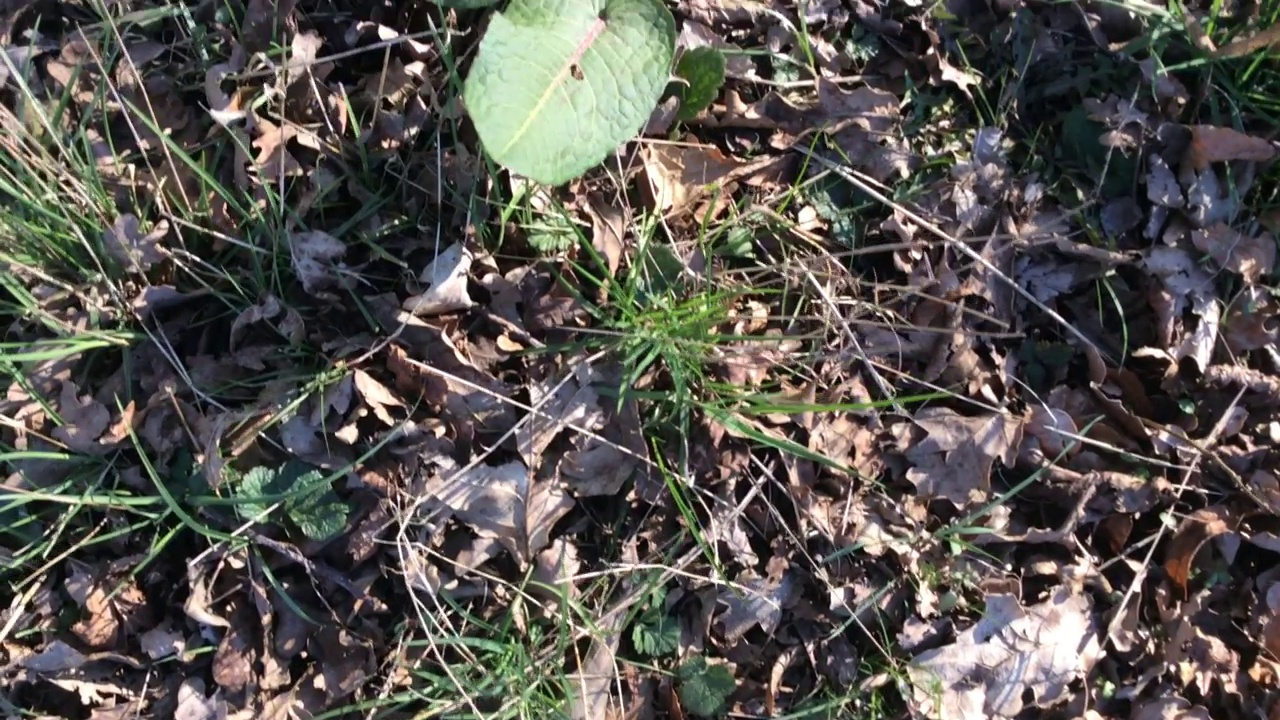rumex: (464, 1, 677, 187)
